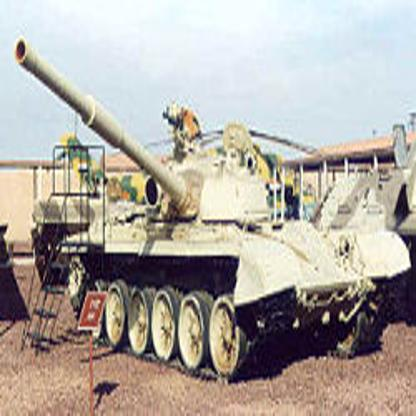Tank: (58, 106, 398, 384)
